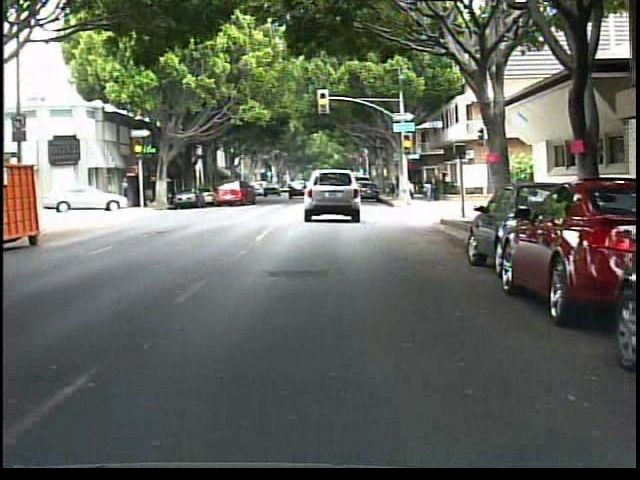person: (430, 168, 443, 204), (423, 173, 435, 202)
